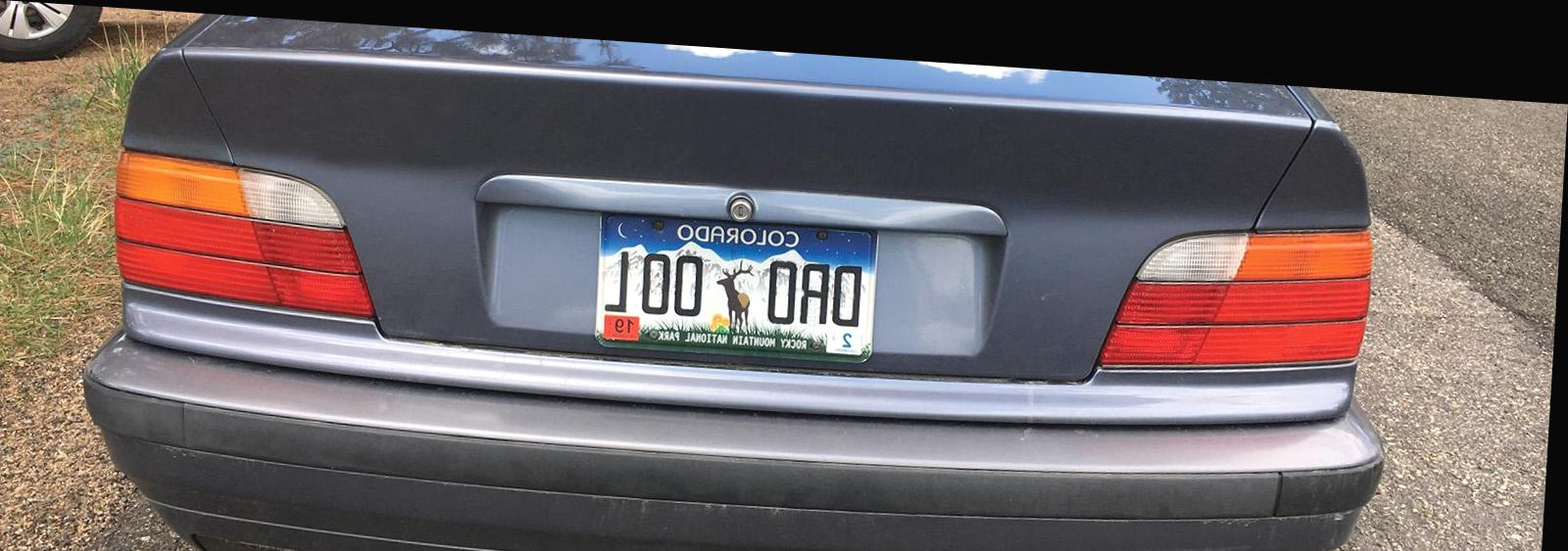License_Plate: (579, 197, 895, 383)
